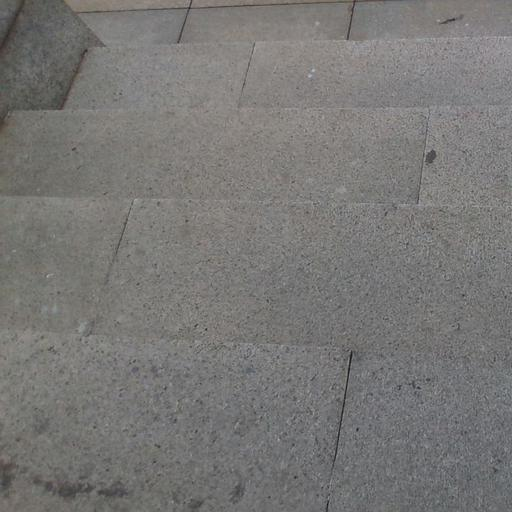stairs: (0, 37, 511, 511)
